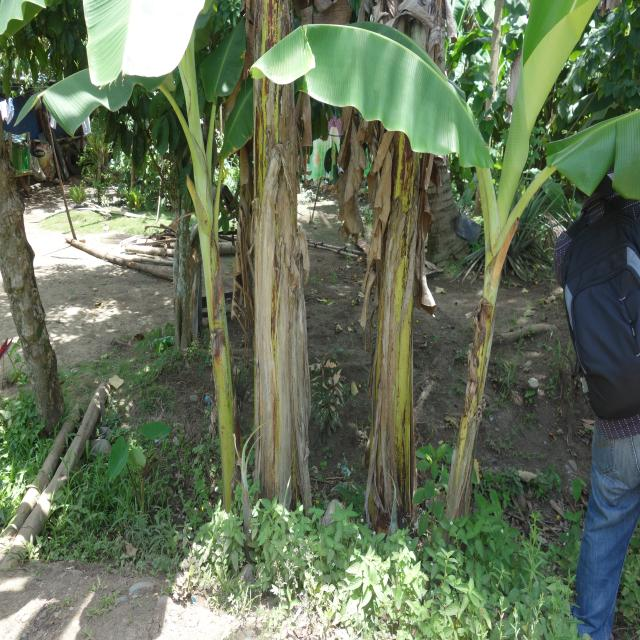Banana-plant: (360, 0, 442, 526), (248, 0, 315, 531), (442, 183, 540, 527), (173, 71, 244, 536)
